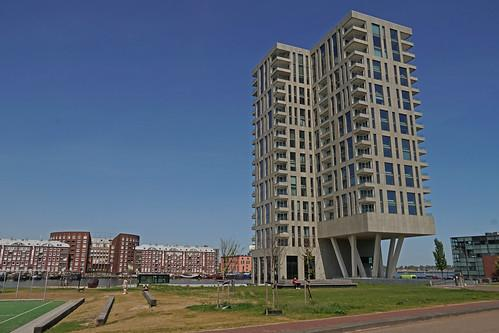building: (243, 7, 440, 287)
